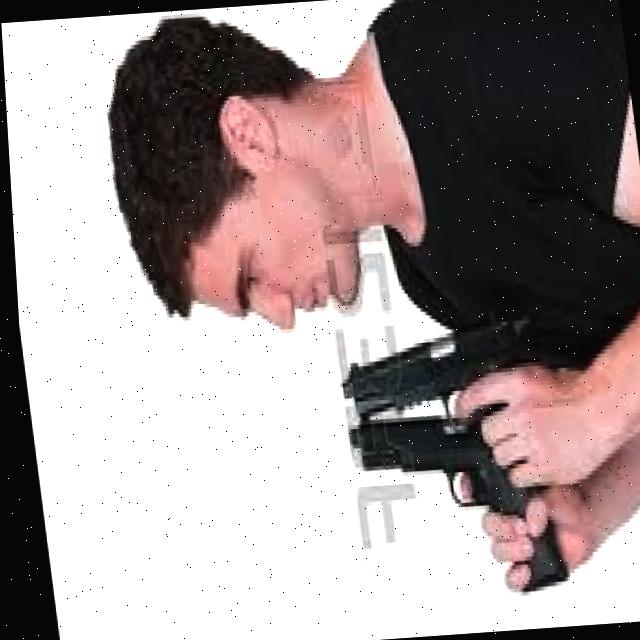pistol: (339, 400, 565, 608), (325, 307, 553, 438)
